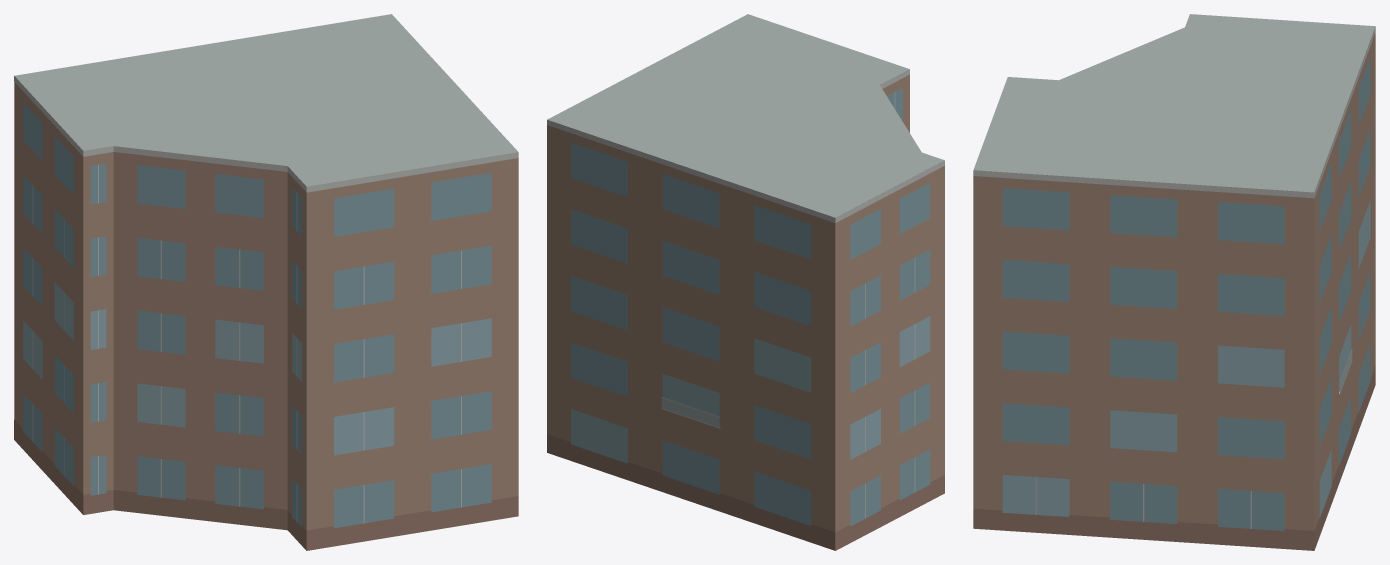
Rendered from survey-upis-32871269.glb.
3 views of the same model, side by side, from view 1: azimuth 30°, elevation 25°; view 2: azimuth 150°, elevation 25°; view 3: azimuth 270°, elevation 25° (orthographic). The views are drawn at different scales.
Visible parts, largest first — view 1: survey-upis-32871269.tmp; view 2: survey-upis-32871269.tmp; view 3: survey-upis-32871269.tmp.
Part boxes in pixels (box(x1,y1,x2,y2)): survey-upis-32871269.tmp: box(14, 14, 518, 550); survey-upis-32871269.tmp: box(547, 14, 944, 550); survey-upis-32871269.tmp: box(973, 14, 1375, 550).
Bounding box in the file's own units: 16.19 × 15.15 × 15.42.
